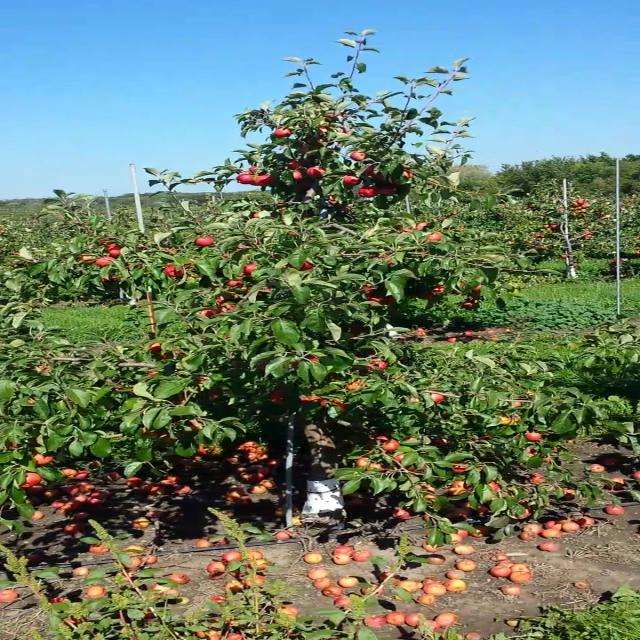apple: (368, 293, 396, 305), (237, 175, 270, 185), (142, 425, 167, 437), (20, 472, 41, 486), (450, 480, 473, 492), (451, 499, 473, 511), (95, 256, 116, 268), (271, 388, 286, 404), (33, 453, 55, 463), (557, 487, 578, 497), (183, 419, 204, 429), (407, 464, 430, 473), (166, 265, 183, 277), (381, 440, 400, 450), (308, 167, 326, 177), (196, 236, 214, 246), (343, 175, 360, 185), (296, 179, 313, 189), (359, 187, 375, 197), (452, 463, 468, 473), (446, 487, 466, 495), (423, 492, 439, 502), (301, 395, 319, 403), (157, 435, 175, 443), (346, 380, 360, 390), (428, 232, 441, 242), (366, 286, 379, 296), (276, 128, 292, 136), (370, 172, 386, 180), (377, 255, 393, 263), (350, 325, 366, 333), (243, 264, 257, 273), (378, 185, 393, 193), (333, 400, 345, 410), (202, 309, 222, 315), (351, 151, 365, 159), (372, 361, 386, 369), (526, 432, 542, 439), (488, 480, 499, 490), (432, 393, 444, 402), (292, 171, 303, 180), (357, 457, 368, 466), (198, 376, 209, 385), (81, 256, 96, 262), (393, 453, 404, 461), (228, 280, 242, 286), (289, 160, 299, 168), (403, 171, 413, 179), (364, 166, 374, 174), (222, 304, 235, 310), (107, 243, 119, 249), (109, 250, 121, 256), (433, 286, 445, 292), (371, 462, 383, 468), (304, 262, 314, 269), (417, 222, 427, 228), (500, 417, 510, 423), (9, 441, 19, 447), (300, 146, 308, 153), (41, 365, 50, 371), (473, 285, 483, 290), (330, 196, 337, 203), (319, 127, 327, 133), (250, 166, 258, 172), (152, 342, 160, 348), (376, 435, 388, 439), (342, 207, 350, 213), (216, 296, 224, 302), (249, 212, 258, 217), (146, 371, 157, 375), (163, 352, 170, 358), (322, 399, 327, 406), (310, 357, 318, 361), (464, 303, 472, 307), (515, 402, 521, 406), (636, 250, 639, 253)
